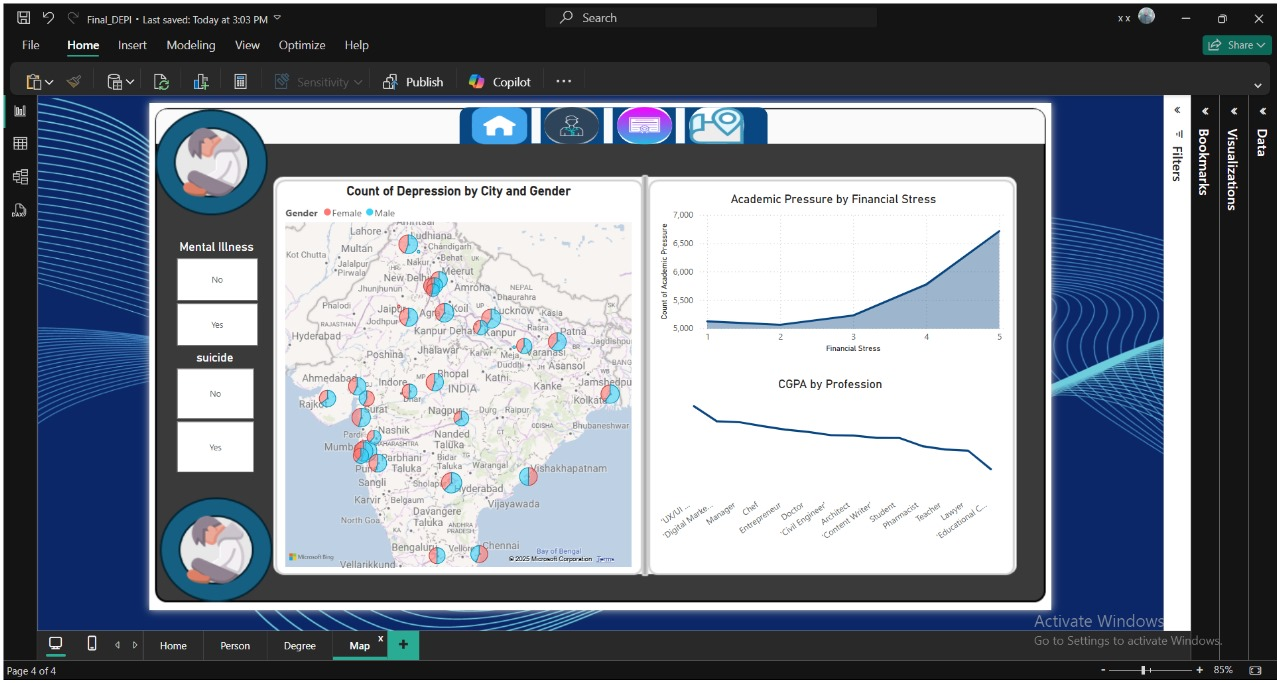

Layout of this report page (visuals, bound fields, positions):
{"tool":"powerbi","page":{"name":"Map","canvas":[1280,720],"ordinal":3},"visuals":[{"type":"shape","box":[440,6.2,437.5,52.5],"z":0},{"type":"shape","box":[542.5,7.5,12.5,50],"z":1000},{"type":"slicer","title":"suicide","fields":{"Values":["Final_dep_stud (2).Have you ever had suicidal thoughts ?"]},"box":[13.5,350.9,159.5,180.4],"z":2000},{"type":"slicer","title":"               Mental Illness","fields":{"Values":["Final_dep_stud (2).Mental Illness"]},"box":[13.5,193.9,164.4,157.1],"z":3000},{"type":"map","fields":{"Category":["Final_dep_stud (2).City"],"Size":["CountNonNull(Final_dep_stud (2).Depression)"],"Series":["Final_dep_stud (2).Gender"]},"box":[188.8,113.8,501.2,550],"z":4000},{"type":"areaChart","title":"Academic Pressure by Financial Stress","fields":{"Y":["CountNonNull(Final_dep_stud (2).Academic Pressure)"],"Category":["Final_dep_stud (2).Financial Stress"]},"box":[720,126.2,501.2,233.8],"z":5000},{"type":"lineChart","title":" CGPA by Profession","fields":{"Category":["Final_dep_stud (2).Profession"],"Y":["Avg(Final_dep_stud (2).CGPA)"]},"box":[720,388.8,492.5,246.2],"z":6000},{"type":"actionButton","box":[663.8,6.2,78.8,52.5],"z":7000},{"type":"actionButton","box":[457.5,6.2,78.8,52.5],"z":8000},{"type":"actionButton","box":[766.2,5.9,78.8,52.5],"z":9000},{"type":"actionButton","box":[560,6.2,78.8,52.5],"z":10000},{"type":"shape","box":[645,7.5,12.5,50],"z":11000},{"type":"shape","box":[747.5,7.5,12.5,50],"z":12000}]}

Visuals, with their boxes on the page's 1280x720 design canvas (x1, y1, x2, y2). These are canvas units, not pixel positions in the 1280x683 screenshot, which may show the page scaled, cropped or inside an application window:
shape: Rect(440, 6, 878, 59)
shape: Rect(542, 8, 555, 58)
"suicide" slicer: Rect(14, 351, 173, 531)
"               Mental Illness" slicer: Rect(14, 194, 178, 351)
map - Final_dep_stud (2).City x CountNonNull(Final_dep_stud (2).Depression): Rect(189, 114, 690, 664)
"Academic Pressure by Financial Stress" areaChart: Rect(720, 126, 1221, 360)
" CGPA by Profession" lineChart: Rect(720, 389, 1212, 635)
actionButton: Rect(664, 6, 743, 59)
actionButton: Rect(458, 6, 536, 59)
actionButton: Rect(766, 6, 845, 58)
actionButton: Rect(560, 6, 639, 59)
shape: Rect(645, 8, 658, 58)
shape: Rect(748, 8, 760, 58)
